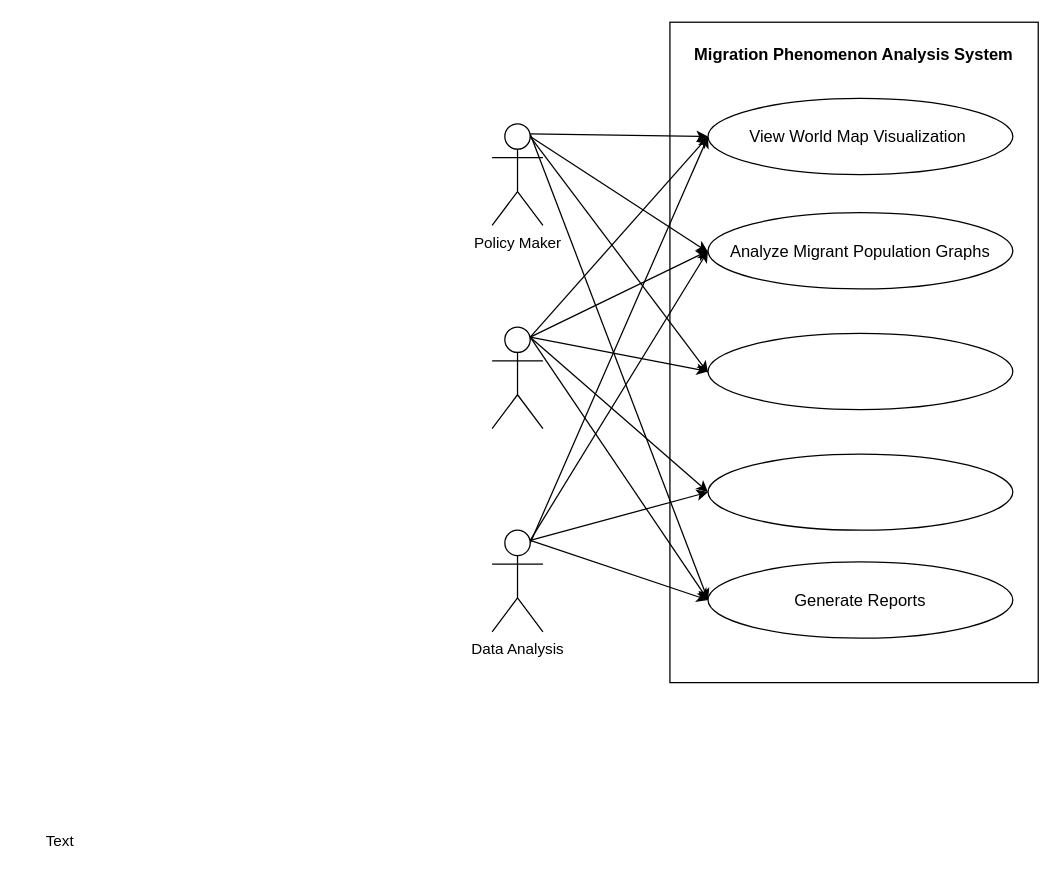
This 1060x883 diagram has some shape labels left out. The shapes that lost their labels are listed below. From the top down, each one's box as (x1, y1, x2, y2) in pixels, then its label:
(491, 326, 543, 429): Researche
(707, 332, 1013, 410): Explore Feature Analysis
(707, 453, 1013, 530): Compute Life Expectancy
